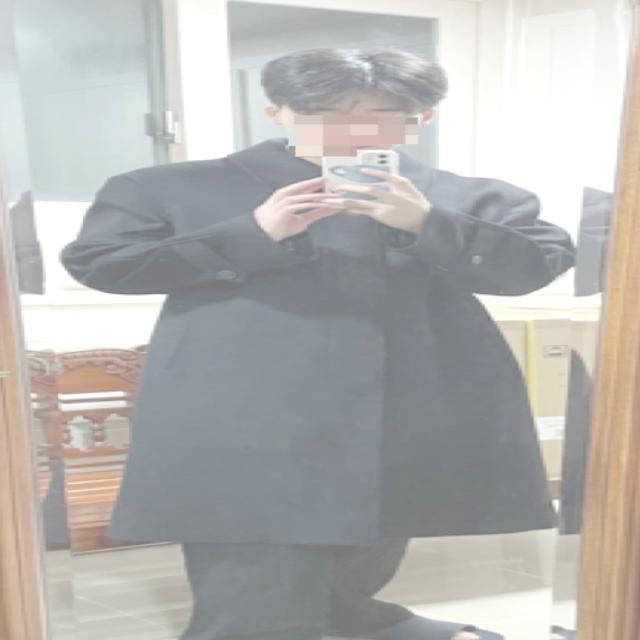coat: (58, 132, 574, 540)
slacks: (175, 540, 415, 640)
